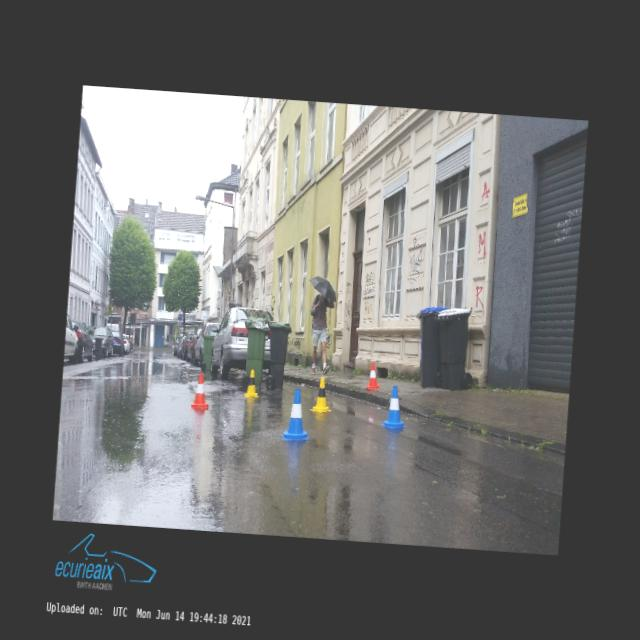blue_cone: (282, 388, 312, 442), (382, 384, 406, 430)
orange_cone: (190, 373, 210, 409), (364, 362, 382, 390)
yellow_cone: (310, 377, 334, 412), (243, 368, 260, 396)
